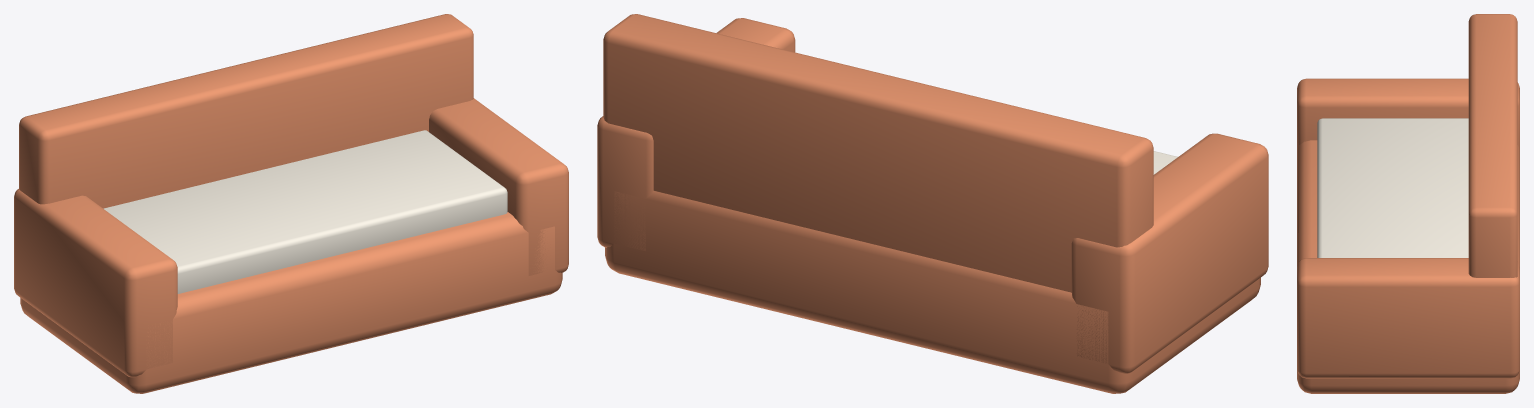
The model's file is sofa-two-seat.glb.
3 renders of one model, left to right at view 1: azimuth 30°, elevation 25°; view 2: azimuth 150°, elevation 25°; view 3: azimuth 270°, elevation 25°, orthographic. The views are drawn at different scales.
Parts seen in each view (by area): view 1: back.002, base.002, cushion, arm, arm.001; view 2: back.002, base.002, arm, arm.001; view 3: arm.001, cushion, back.002, arm, base.002.
Boxes of the visible parts, <box> form: back.002: <box>19,14,473,208</box>; base.002: <box>20,212,562,393</box>; cushion: <box>103,130,507,293</box>; arm: <box>14,189,177,377</box>; arm.001: <box>429,98,568,275</box>; back.002: <box>603,14,1153,292</box>; base.002: <box>605,190,1260,393</box>; arm: <box>1071,133,1268,373</box>; arm.001: <box>597,18,795,250</box>; arm.001: <box>1297,258,1519,378</box>; cushion: <box>1317,118,1468,257</box>; back.002: <box>1468,14,1517,277</box>; arm: <box>1297,78,1519,148</box>; base.002: <box>1297,140,1519,393</box>.
Size of the model in its own units: 1.84 by 0.792 by 0.85.
